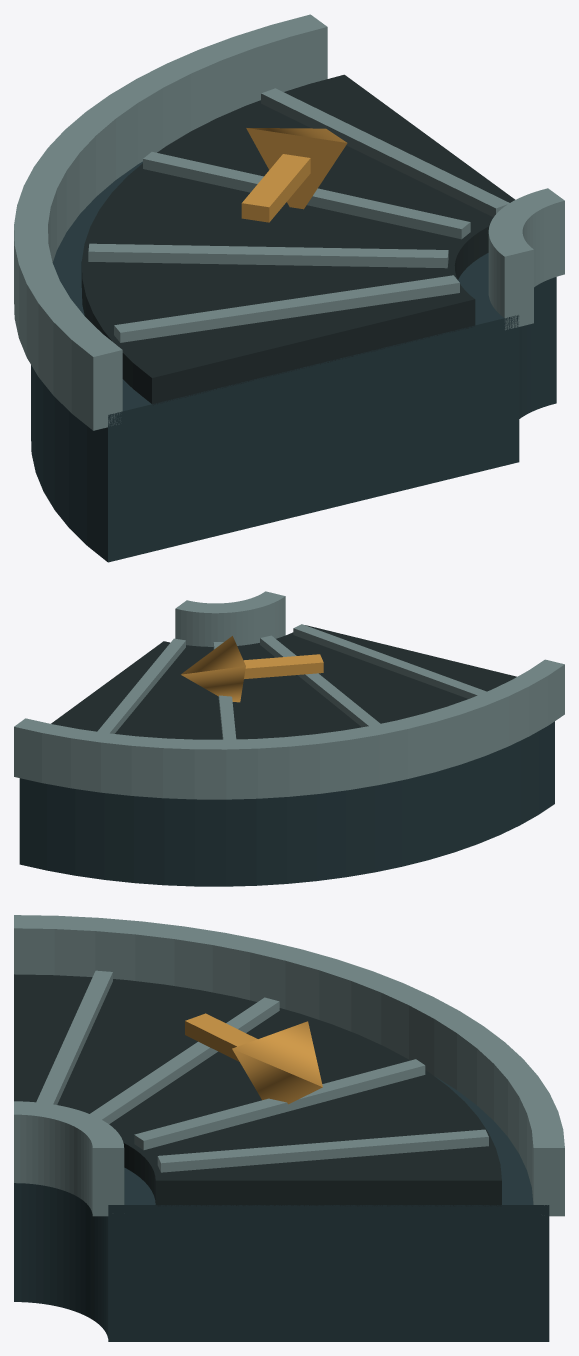
File: belt-2.glb
3 renders of one model, top to bottom at view 1: azimuth 30°, elevation 25°; view 2: azimuth 150°, elevation 25°; view 3: azimuth 270°, elevation 25°, orthographic. The views are drawn at different scales.
Parts seen in each view (by area): view 1: Batched static factory; view 2: Batched static factory; view 3: Batched static factory.
Part boxes in pixels (x1,y1,x2,y2): Batched static factory: (14, 14, 564, 562); Batched static factory: (14, 591, 564, 886); Batched static factory: (14, 915, 564, 1341).
Bounding box in the file's own units: 0.875 × 0.4009 × 0.875.
